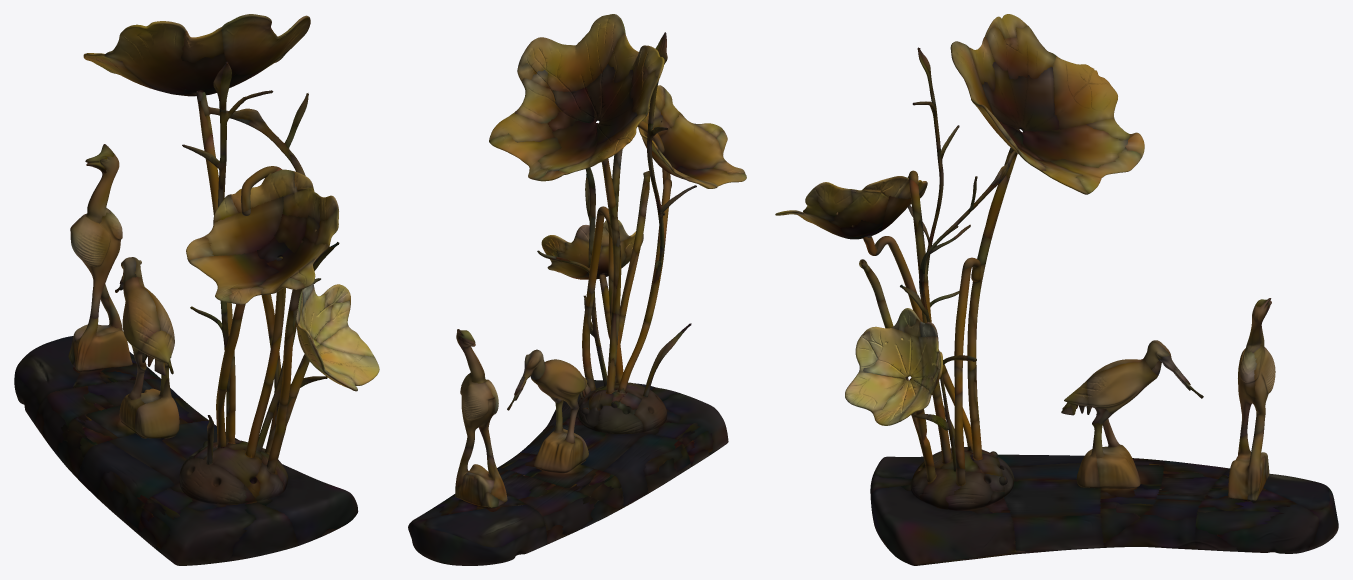
File: bronze-bird.glb
3 renders of one model, left to right at view 1: azimuth 30°, elevation 25°; view 2: azimuth 150°, elevation 25°; view 3: azimuth 270°, elevation 25°, orthographic. The views are drawn at different scales.
Visible parts, largest first — view 1: tripo_node_311cc1fb-d057-49db-985c-64f71fa4d355; view 2: tripo_node_311cc1fb-d057-49db-985c-64f71fa4d355; view 3: tripo_node_311cc1fb-d057-49db-985c-64f71fa4d355.
Part boxes in pixels (x1,y1,x2,y2): tripo_node_311cc1fb-d057-49db-985c-64f71fa4d355: (14, 14, 379, 565); tripo_node_311cc1fb-d057-49db-985c-64f71fa4d355: (408, 14, 746, 565); tripo_node_311cc1fb-d057-49db-985c-64f71fa4d355: (775, 14, 1338, 565).
Bounding box in the file's own units: 0.3871 × 0.9269 × 0.9806.
Materials: 1 (1 with a texture image).
